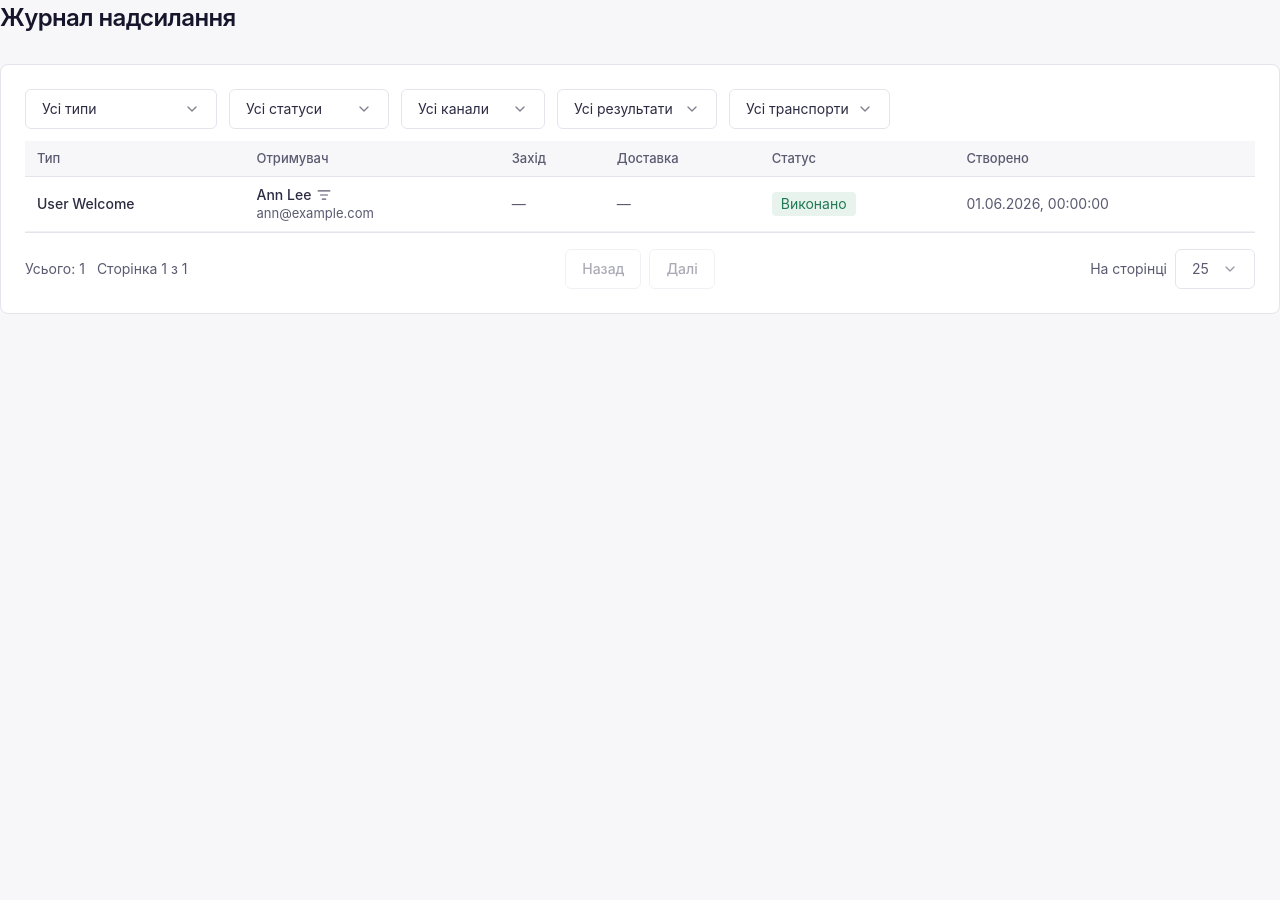
Test: LogsTab recipient and error lines › shows the recipient as plain text without a link for nil uuid
The width and height of the screenshot is (1280, 900).
Click the text "Ann Lee". click: (640, 204)
box: x1=25 y1=176 x2=1255 y2=231
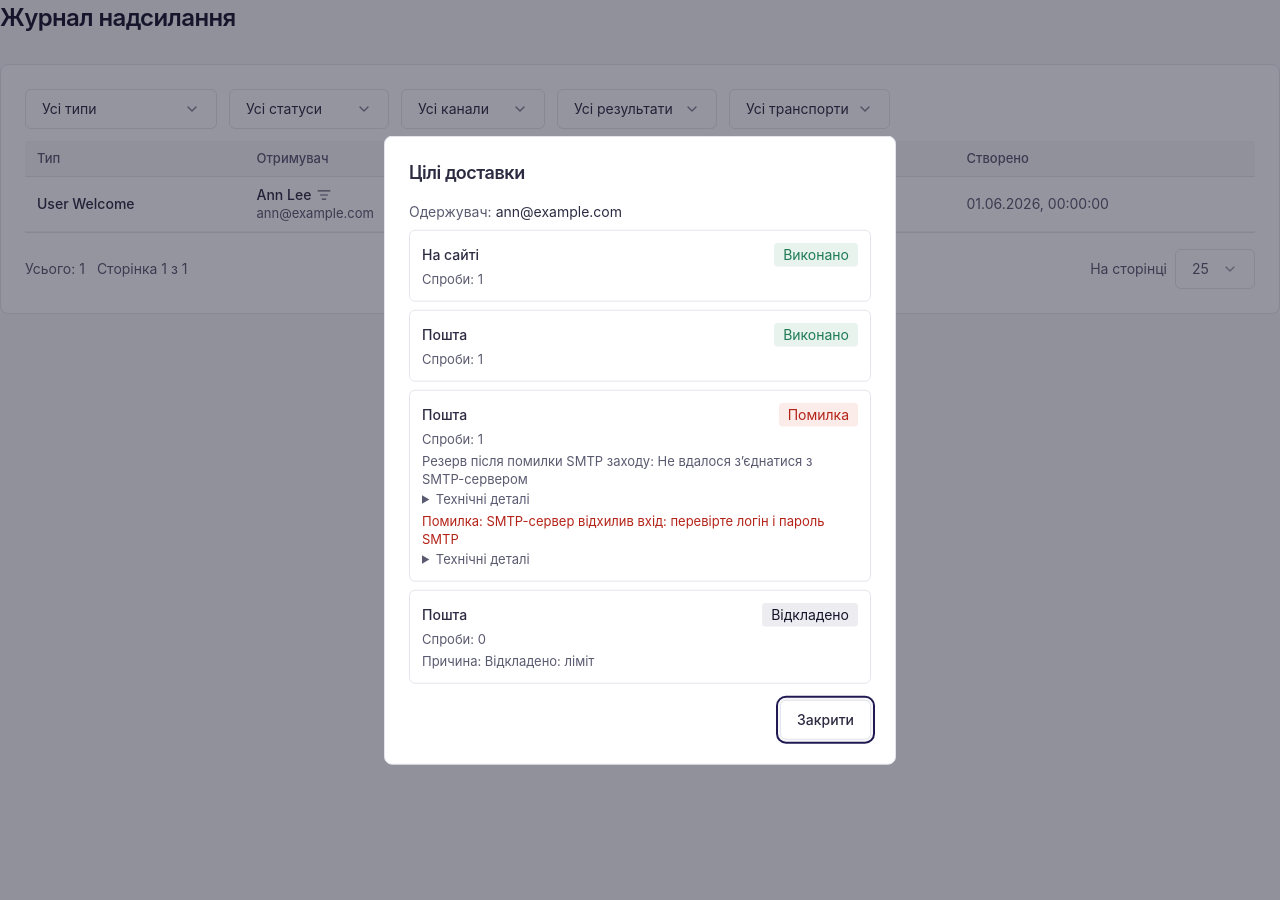
Result: the text "ann@example.com" is shown at x1=496 y1=202 x2=622 y2=222
